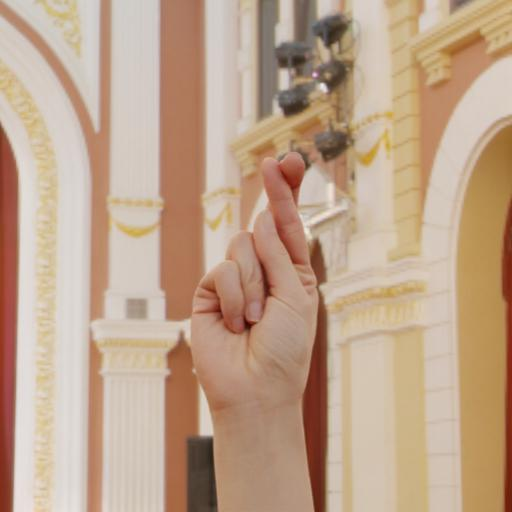U: (171, 148, 345, 512)
